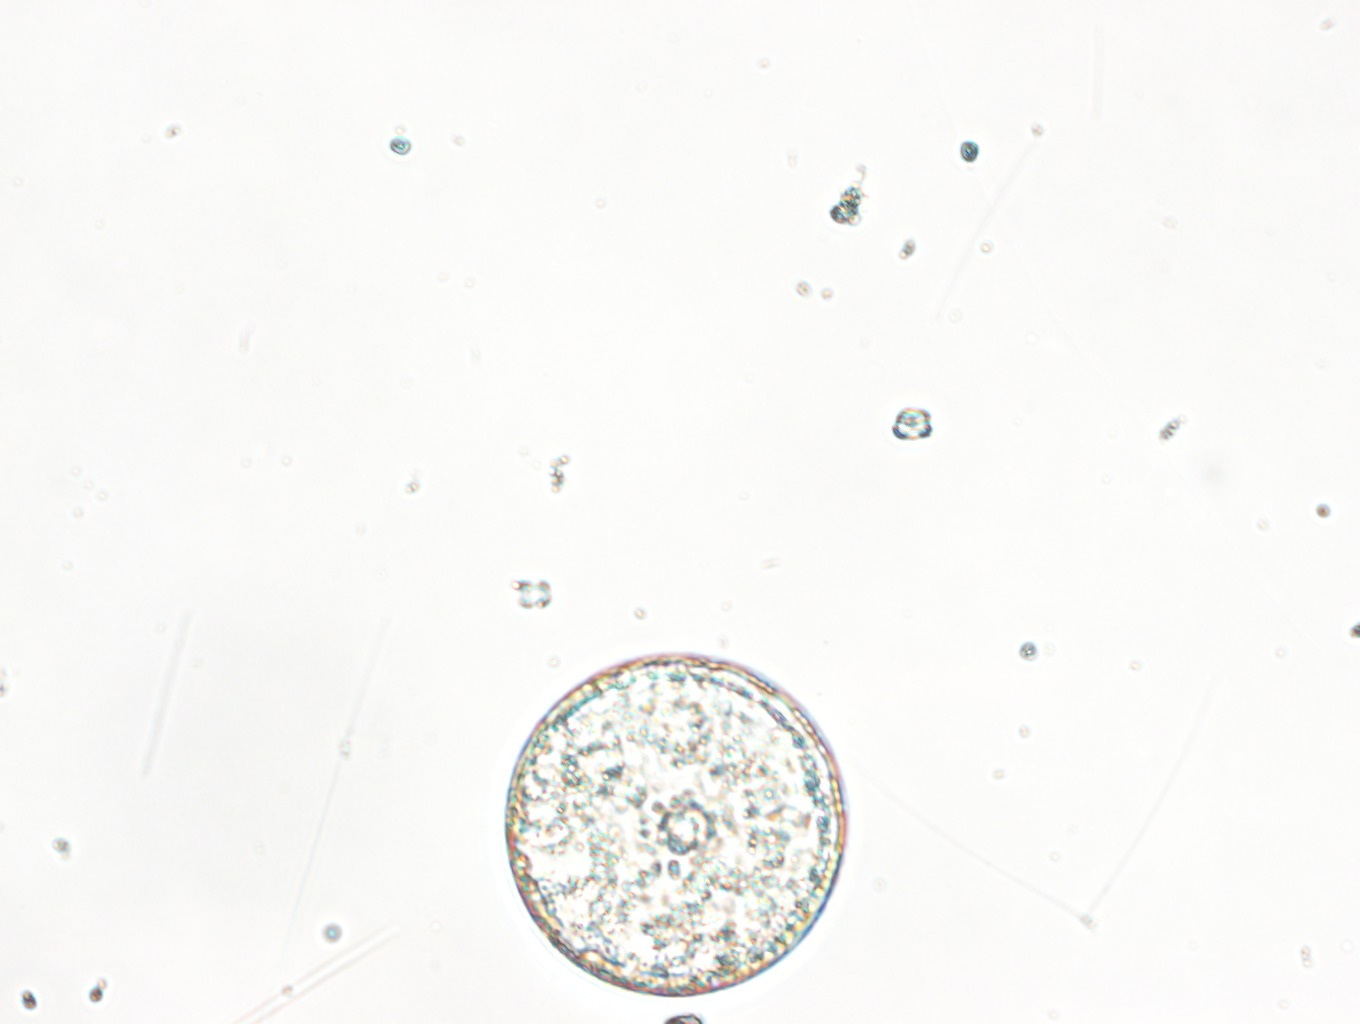coscinodiscus: (495, 646, 858, 1005)
